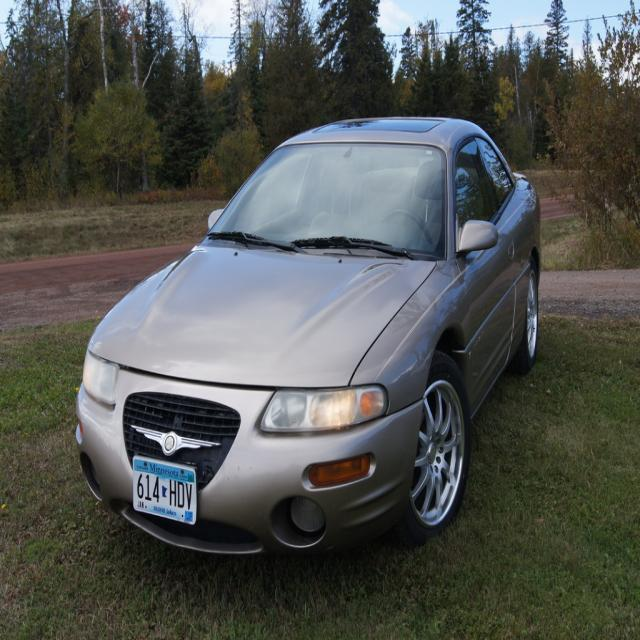car: (74, 117, 540, 568)
